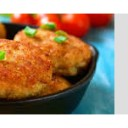cutlet: (18, 23, 93, 75), (2, 39, 50, 94)
